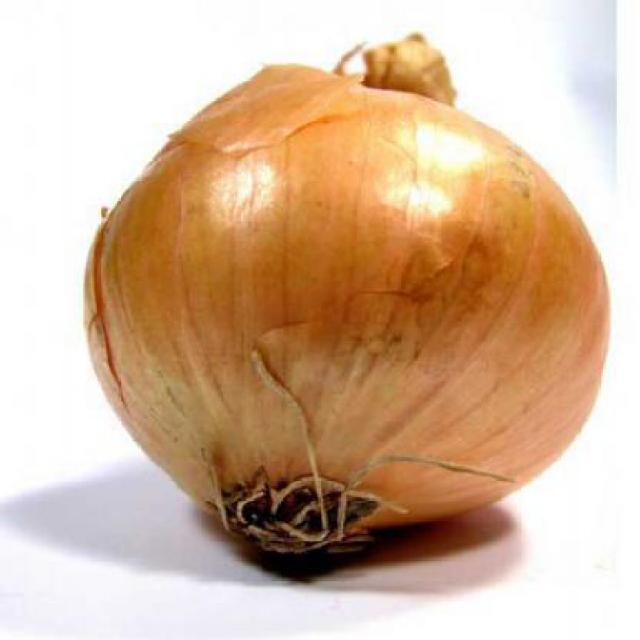onion: (99, 64, 598, 574)
